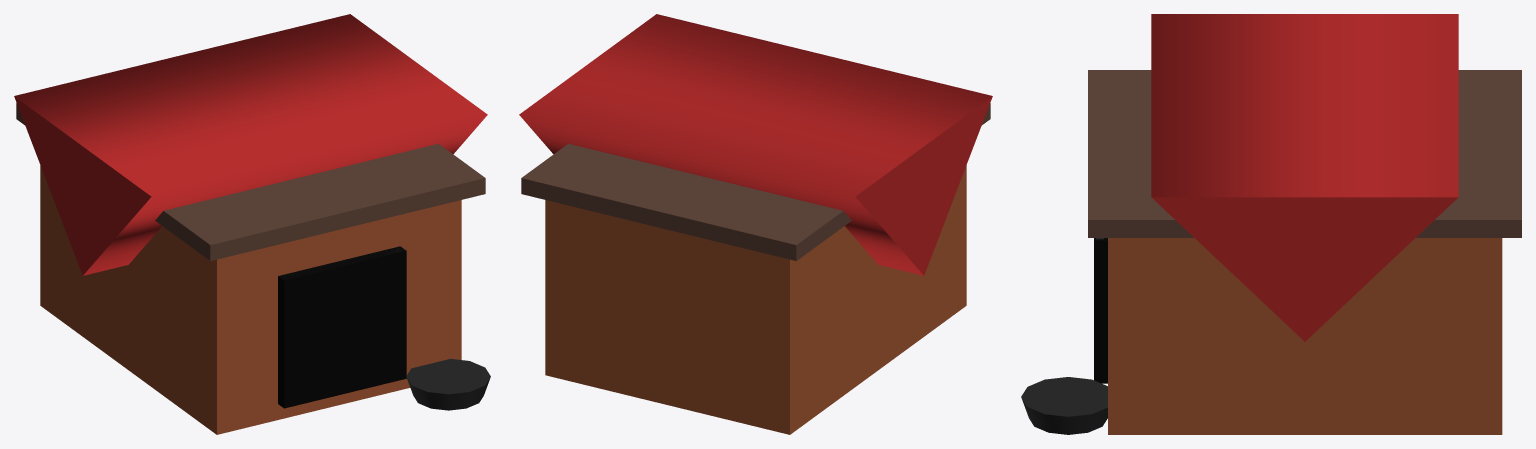
The model's file is doghouse.glb.
3 views of the same model, side by side, from view 1: azimuth 30°, elevation 25°; view 2: azimuth 150°, elevation 25°; view 3: azimuth 270°, elevation 25° (orthographic). The views are drawn at different scales.
Visible parts, largest first — view 1: doghouse; view 2: doghouse; view 3: doghouse.
Boxes of the visible parts, left/top/right/bottom form: doghouse: left=14, top=14, right=490, bottom=434; doghouse: left=519, top=14, right=992, bottom=434; doghouse: left=1021, top=14, right=1521, bottom=434.
Bounding box in the file's own units: 1.1 × 0.735 × 1.27.
